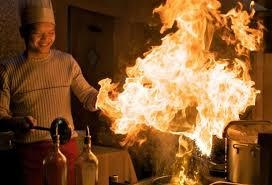fire: (81, 3, 266, 166)
